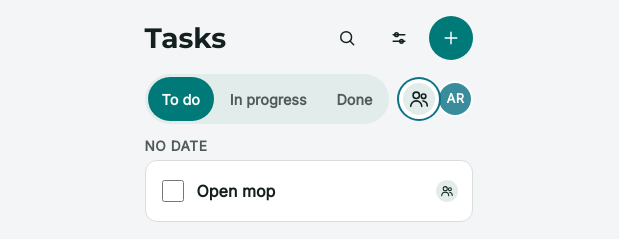
Scenario: TasksPage › searches every task, done or not, ignoring accents and case
expect the text "Open mop" is shown: met, box left=197, top=181, right=275, bottom=201
Click the button named "Search tasks" at (347, 38), box left=325, top=16, right=369, bottom=60
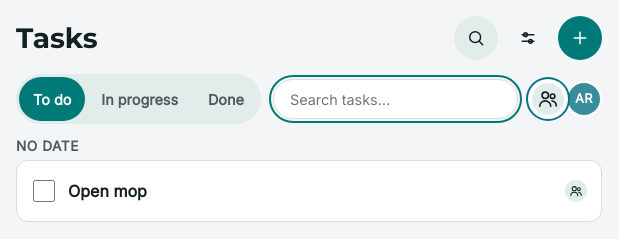
Type "CAFE" into the search field at (395, 99), box left=273, top=79, right=518, bottom=119
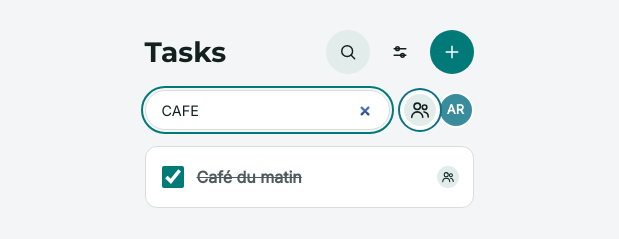
expect the text "Café du matin" is shown: met, box left=196, top=167, right=302, bottom=187
expect the button "Open mop" is gone: met
Replace the text in the search field with "zzzz" at (267, 110), box left=144, top=90, right=390, bottom=130
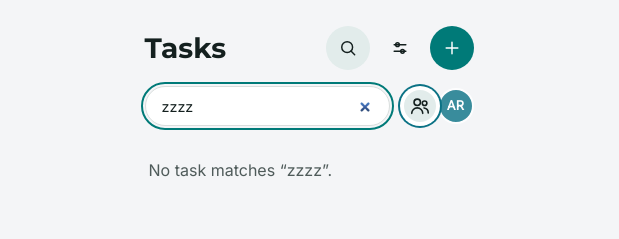
expect the text "No task matches “zzzz”." is shown: met, box left=148, top=160, right=332, bottom=180
